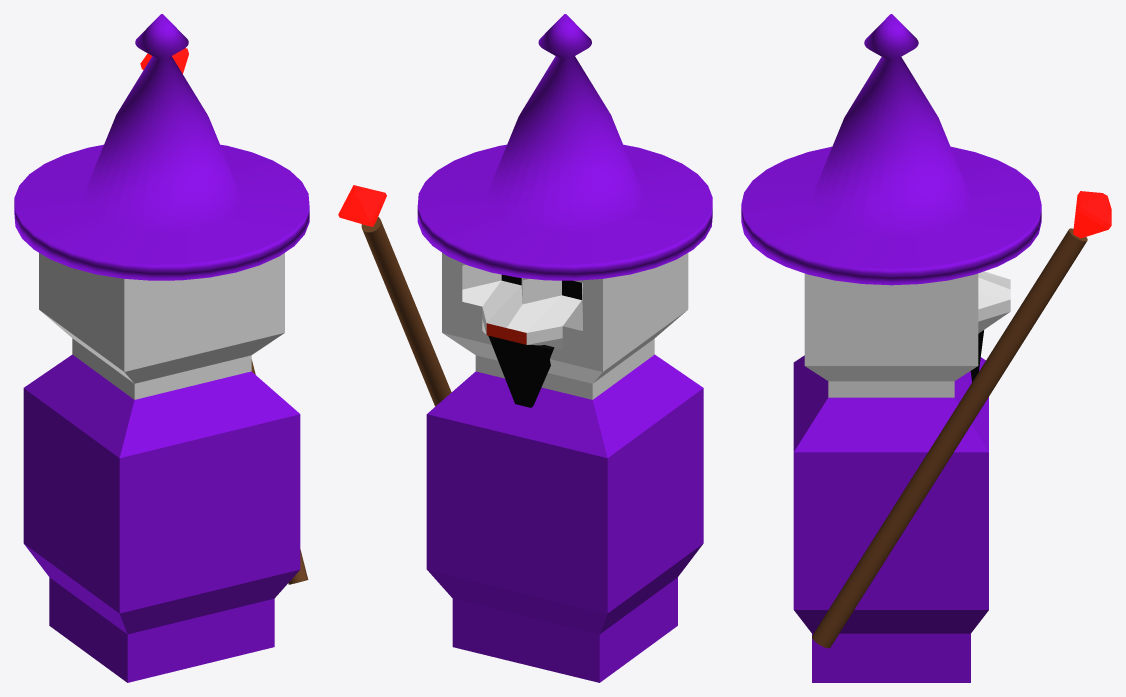
Rendered from wizzard.glb.
The picture shows the model from 3 angles, left to right: view 1: azimuth 30°, elevation 25°; view 2: azimuth 150°, elevation 25°; view 3: azimuth 270°, elevation 25°; orthographic projection.
Visible parts, largest first — view 1: Cube, Cylinder; view 2: Cube, Cylinder, Cylinder.001, Cube.001, Cube.002; view 3: Cube, Cylinder, Cylinder.001, Cube.002.
Boxes of the visible parts, left/top/right/bottom form: Cube: left=23, top=253, right=300, bottom=682; Cylinder: left=14, top=14, right=309, bottom=280; Cube: left=426, top=252, right=703, bottom=682; Cylinder: left=417, top=14, right=712, bottom=280; Cylinder.001: left=361, top=217, right=451, bottom=406; Cube.001: left=488, top=335, right=554, bottom=407; Cube.002: left=338, top=185, right=386, bottom=226; Cube: left=793, top=271, right=1010, bottom=682; Cylinder: left=741, top=14, right=1041, bottom=285; Cylinder.001: left=812, top=228, right=1087, bottom=648; Cube.002: left=1073, top=191, right=1111, bottom=238.
Bounding box in the file's own units: 2 × 4.64 × 2.47.
